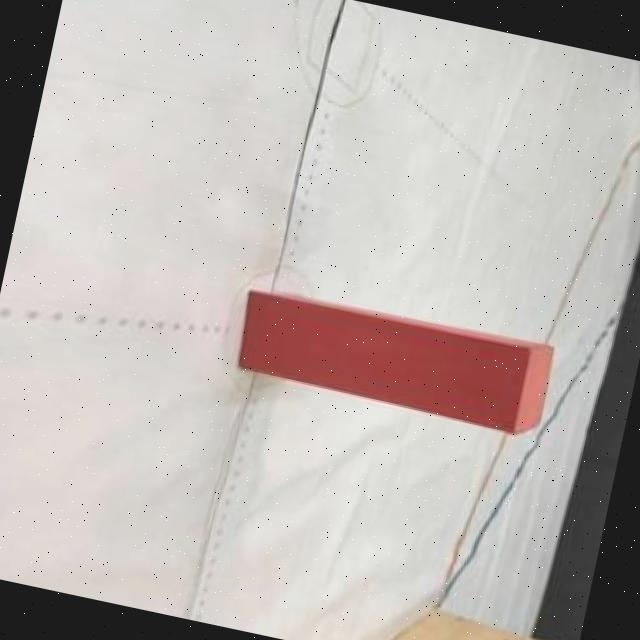redbox: (231, 283, 556, 441)
